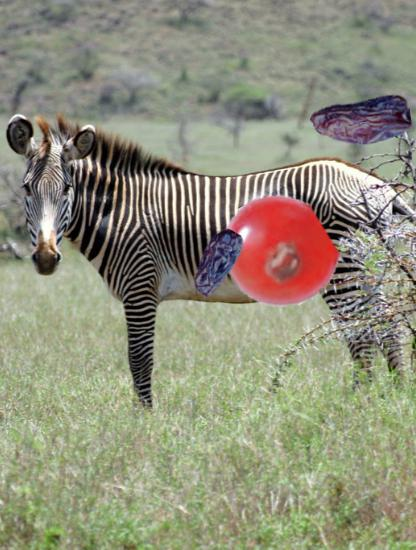Dates: (311, 72, 412, 173), (180, 227, 252, 299)
Redcurrant: (221, 195, 335, 309)
